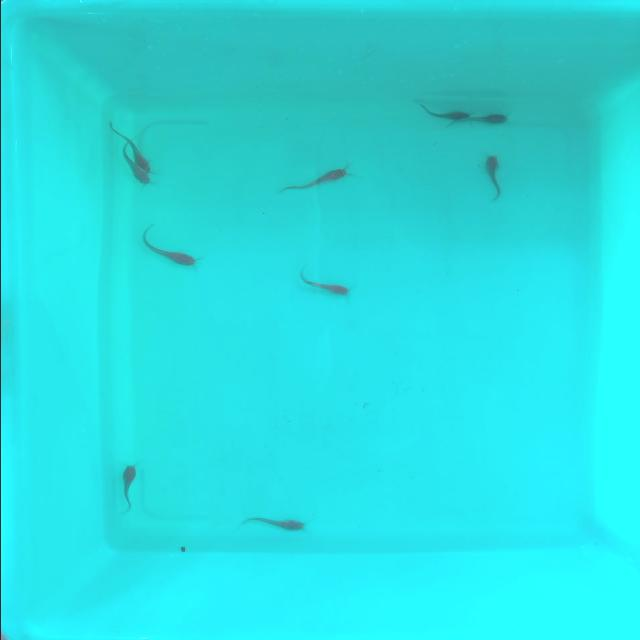lele: (130, 228, 202, 275), (101, 116, 153, 173), (278, 162, 354, 200), (108, 146, 151, 190), (294, 270, 349, 296), (236, 514, 306, 534), (118, 464, 138, 516), (484, 152, 502, 200), (417, 108, 466, 121), (468, 112, 506, 124)
